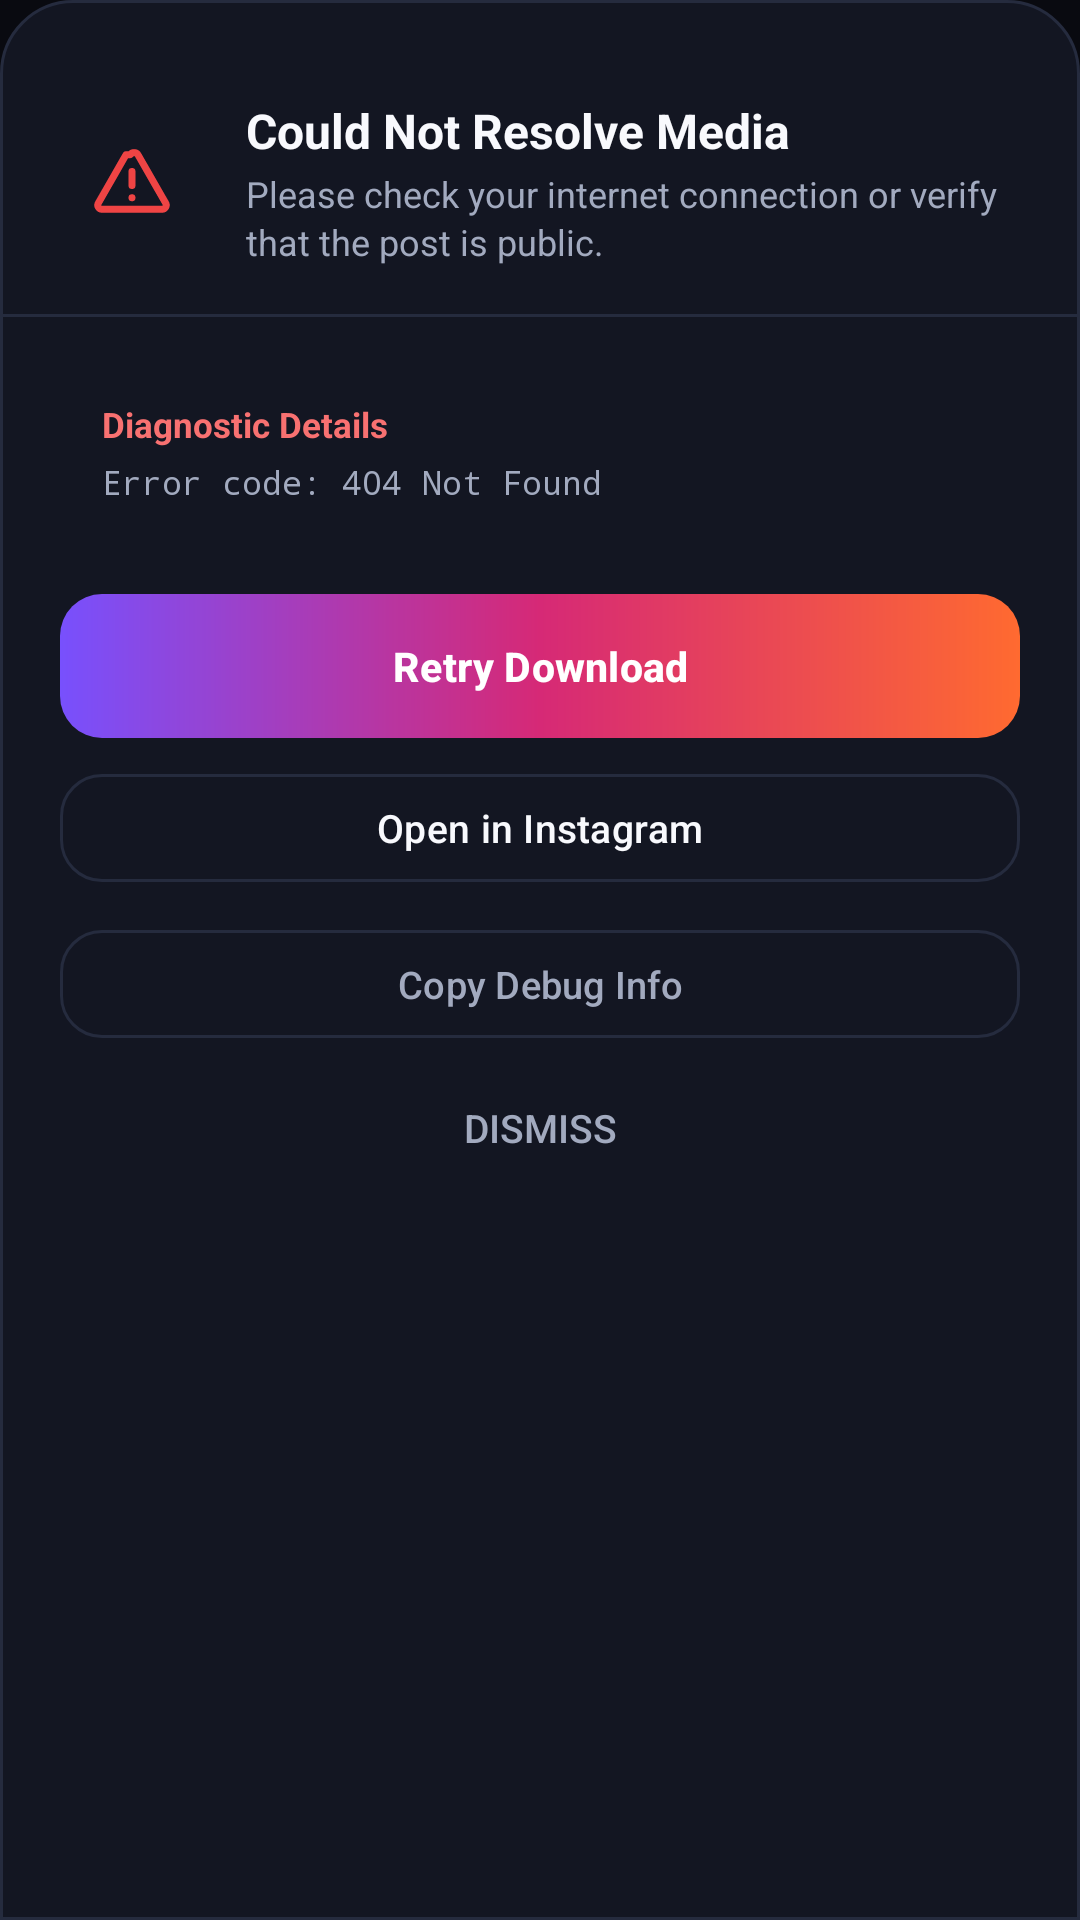

Where to tap for icons on this 1080px x 1920px app screen, as (x=x, y=y):
Error Icon: (x=132, y=181)
